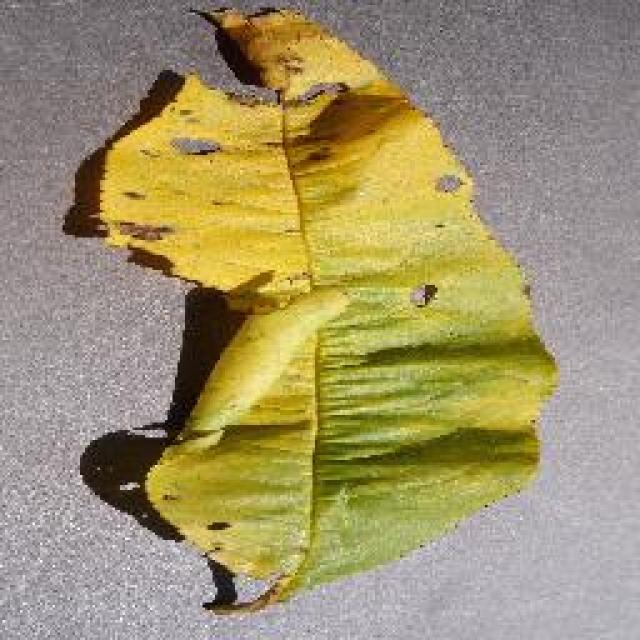Peach_Bacterial_Spot: (138, 63, 467, 380)
